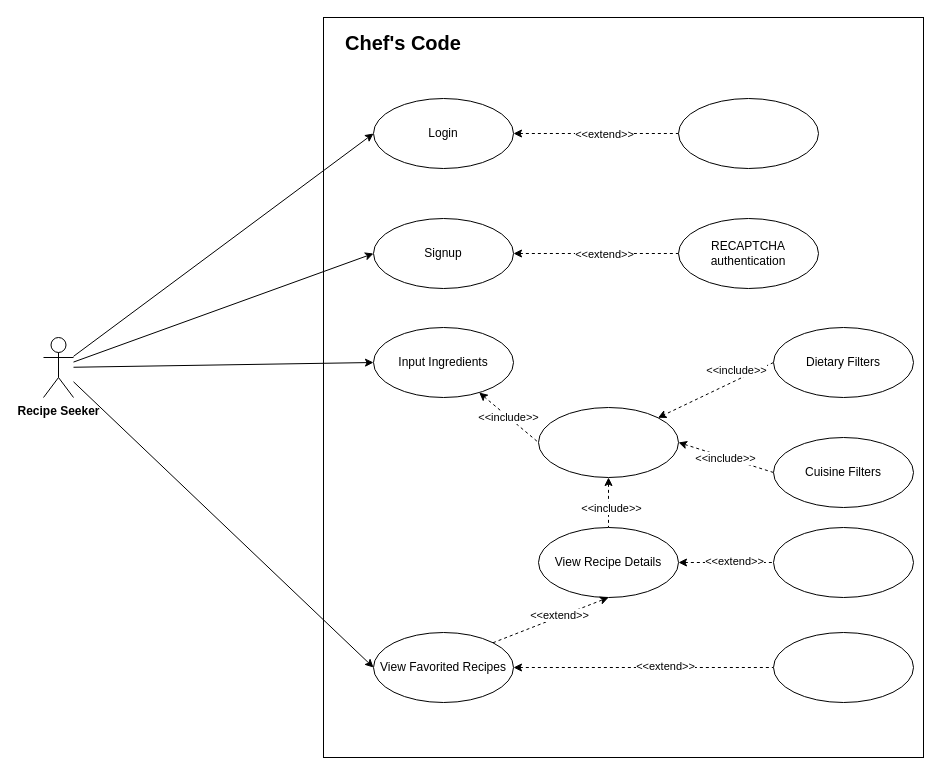
The diagram is 941 pixels wide and 775 high, and some of its shapes have lost their labels. Each missing label, with the centre of its shape:
Change email: (x=748, y=133)
Save Favorite Recipes: (x=843, y=562)
Search Recipes: (x=608, y=442)
Unfavorite Recipes: (x=843, y=667)
